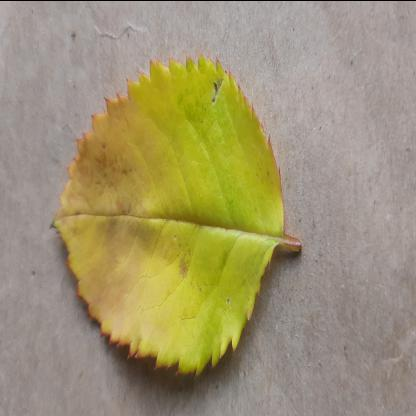black-spot: (49, 50, 287, 370)
